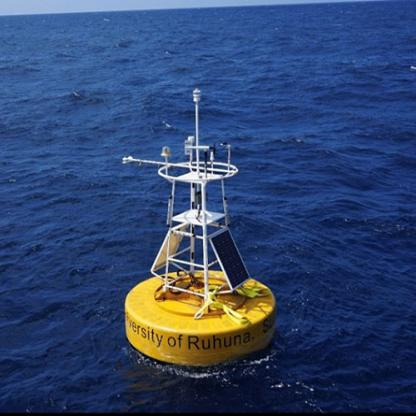buoy: (110, 84, 284, 371)
